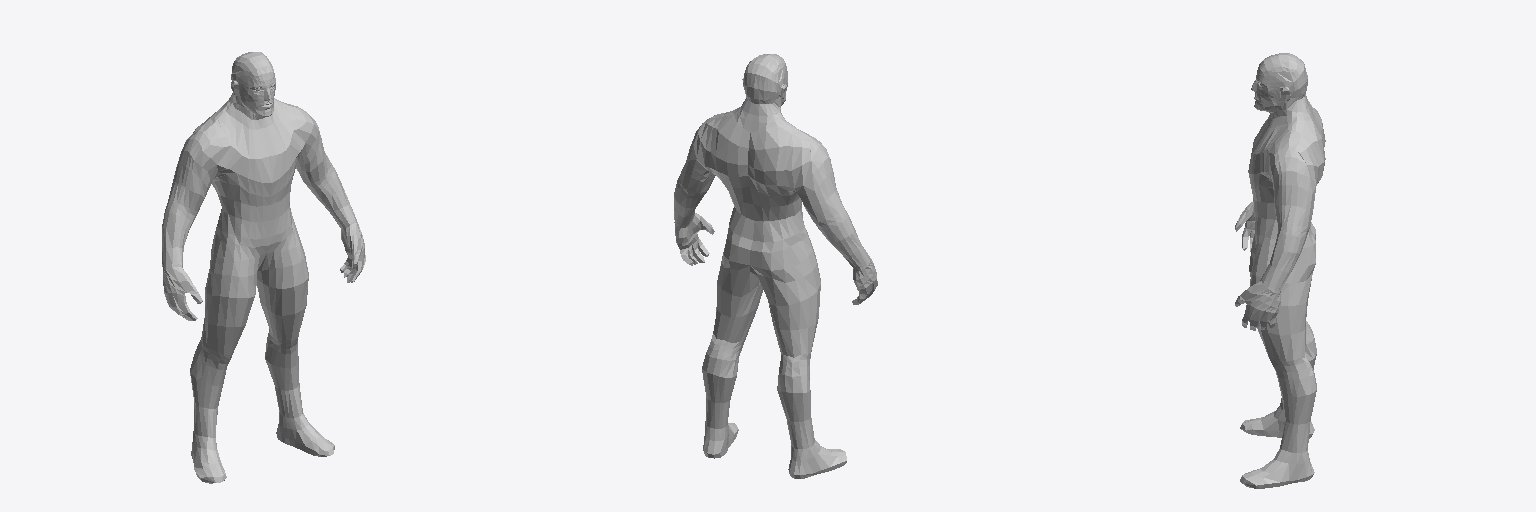
Rendered from CHAR_Prototype_001.obj.
3 views of the same model, side by side, from view 1: azimuth 30°, elevation 25°; view 2: azimuth 150°, elevation 25°; view 3: azimuth 270°, elevation 25° (orthographic).
Parts seen in each view (by area): view 1: CHAR_Prototype_001_Mesh; view 2: CHAR_Prototype_001_Mesh; view 3: CHAR_Prototype_001_Mesh.
Boxes of the visible parts, <box> form: CHAR_Prototype_001_Mesh: <box>162,52,365,483</box>; CHAR_Prototype_001_Mesh: <box>674,54,877,478</box>; CHAR_Prototype_001_Mesh: <box>1235,53,1325,488</box>.
Bounding box in the file's own units: 0.9133 × 1.78 × 0.3669.